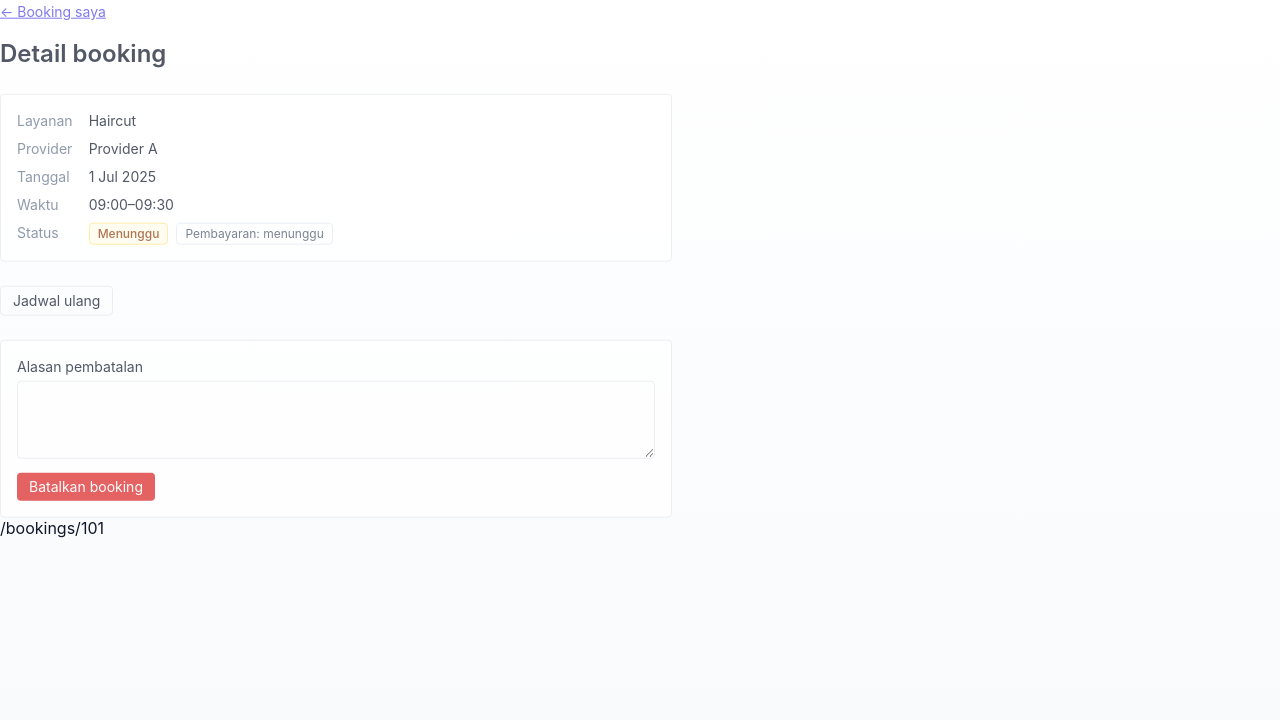
Scenario: BookingDetailPage › reschedules to a picked slot and shows success
Step 1. Click the button "Jadwal ulang" → (57, 301), box [0,286,114,316]
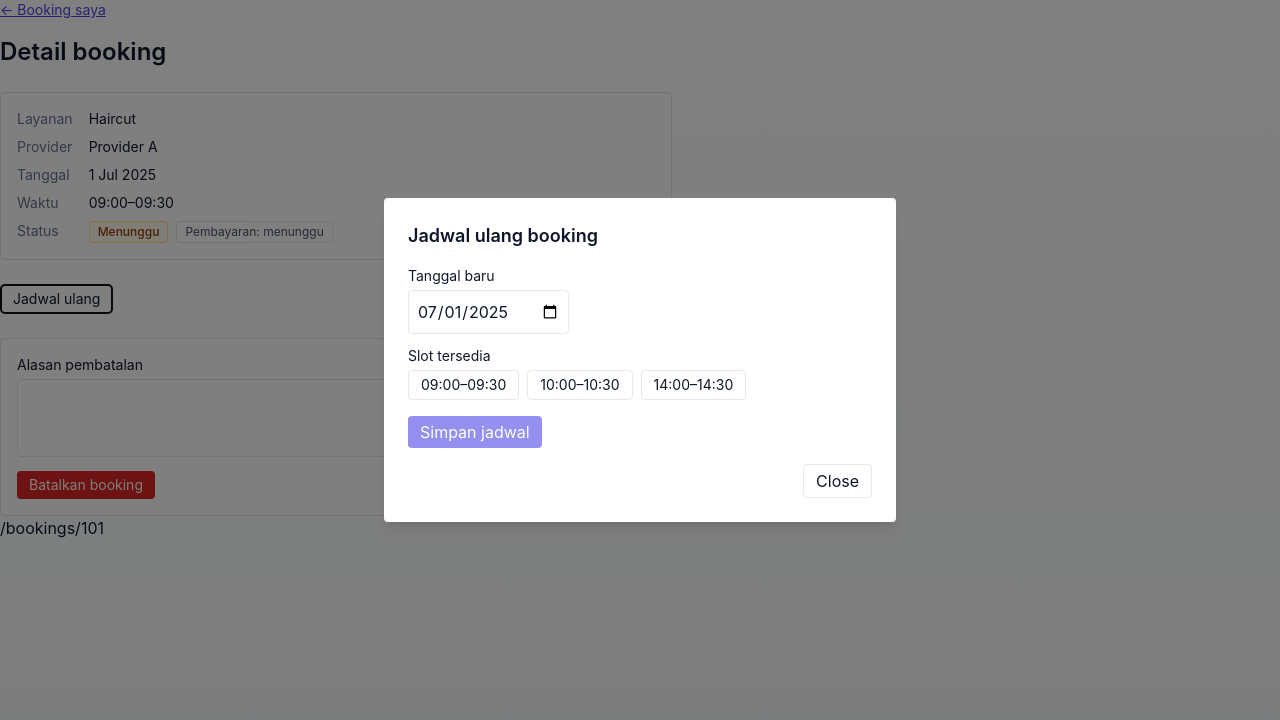
expect the dialog "Jadwal ulang booking" is shown: met, box [384,198,896,522]
Step 2. Clear the date field labelled "Tanggal baru" → (488, 312), box [408,290,569,334]
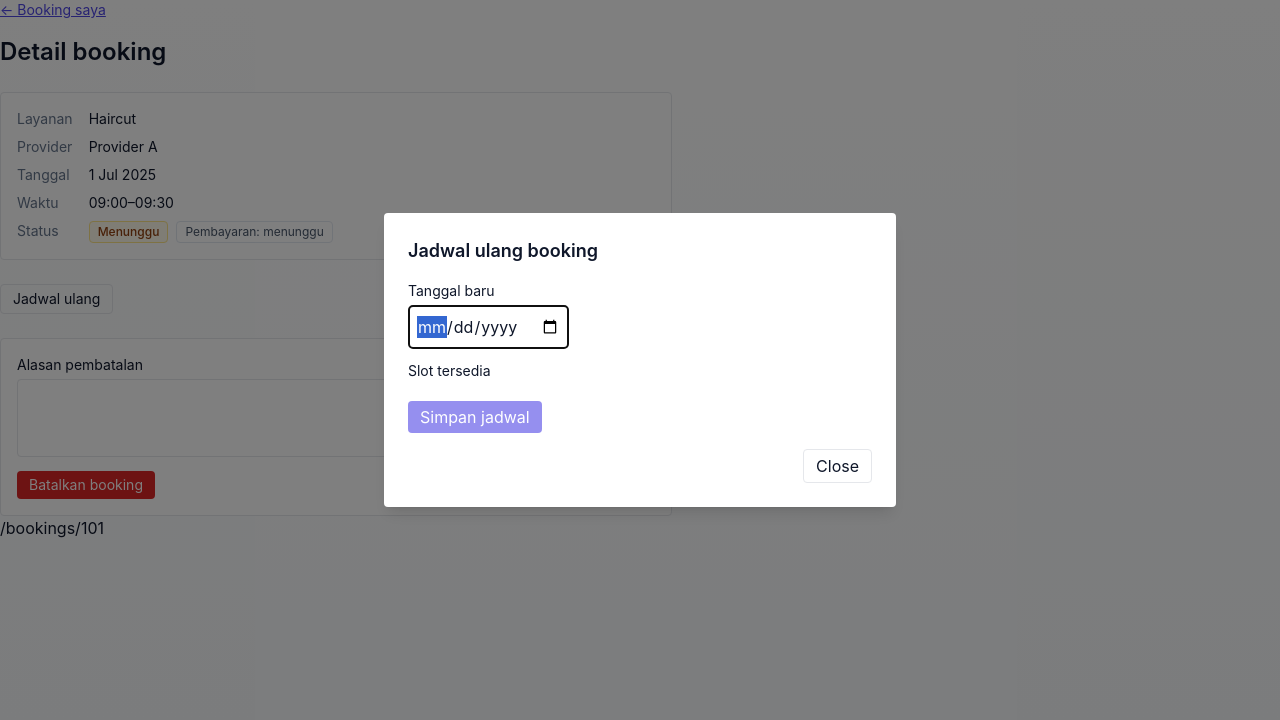
Step 3. Type "2025-07-10" into the date field labelled "Tanggal baru" → (488, 327), box [408,305,569,349]
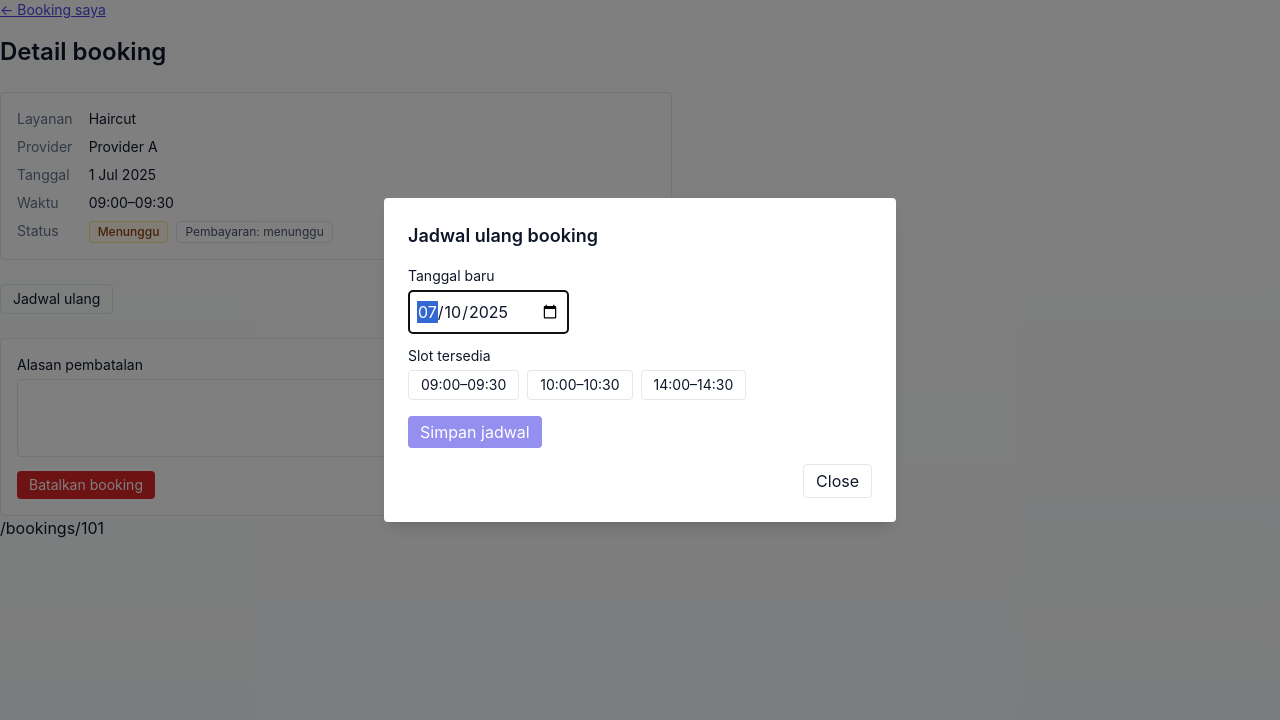
Step 4. Click the button "10:00–10:30" → (580, 385), box [527,370,633,400]
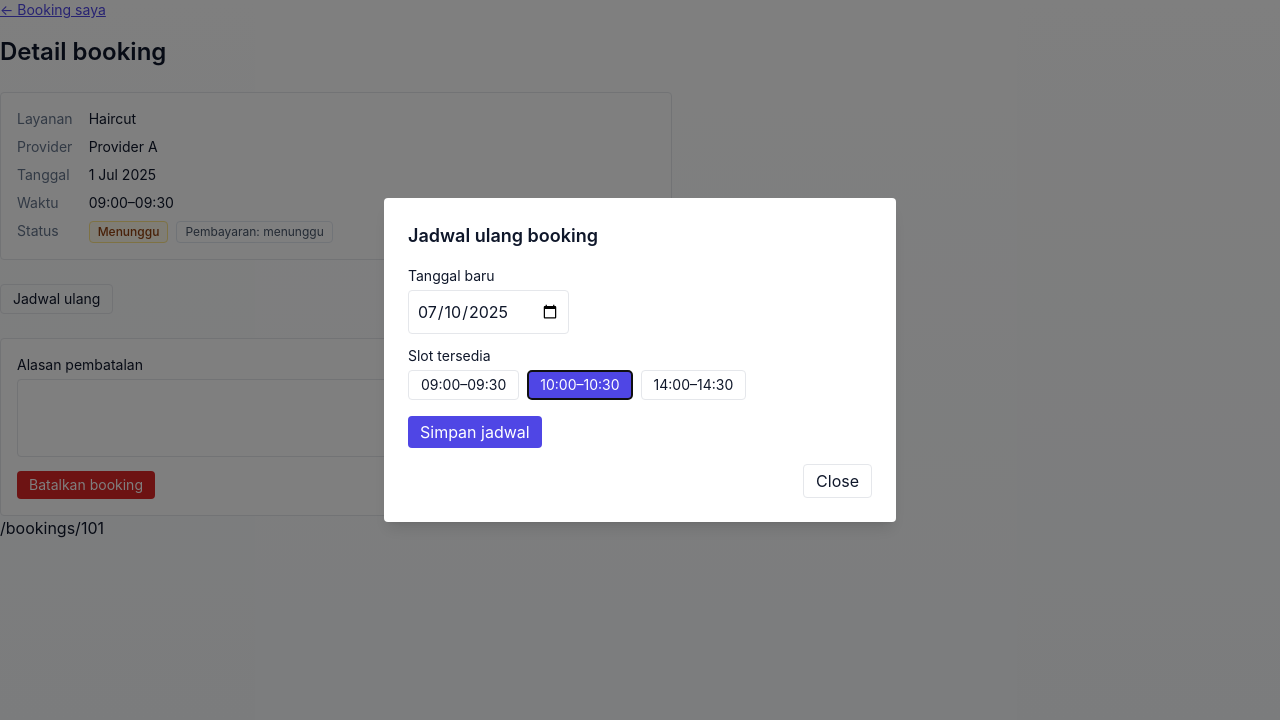
Step 5. Click the button "Simpan jadwal" → (475, 432), box [408,416,542,448]
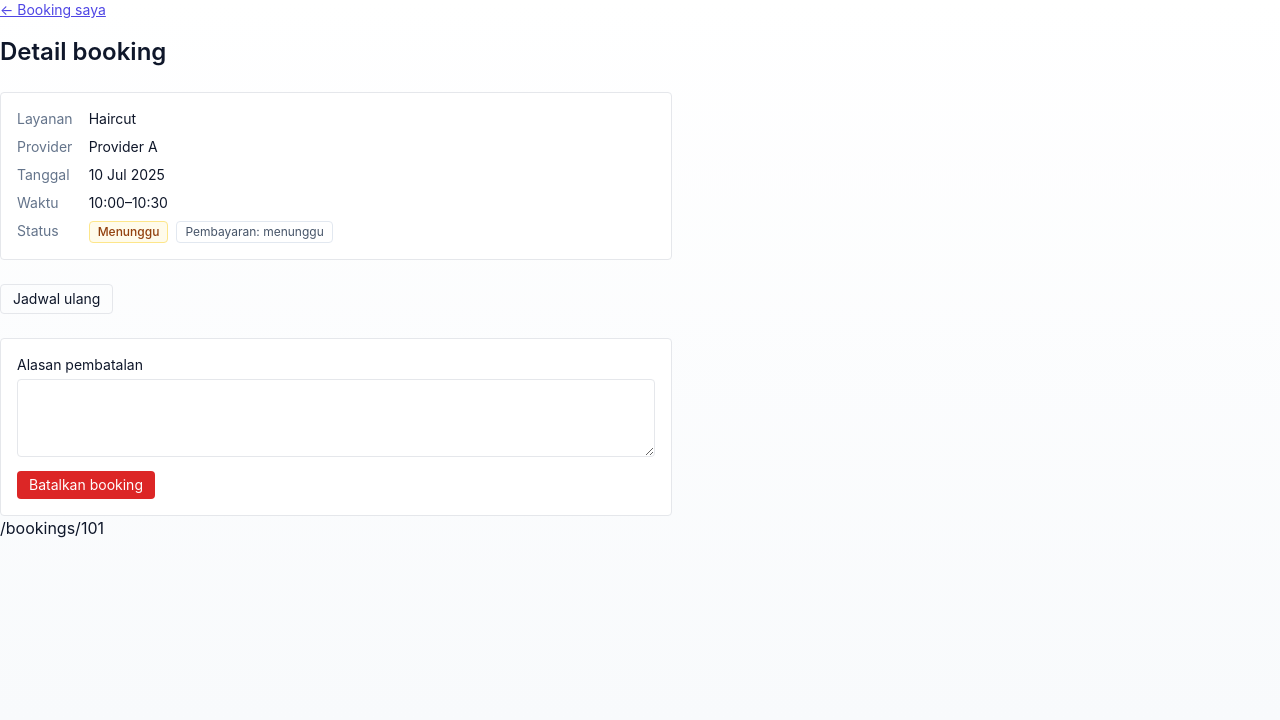
expect the dialog is gone: met
expect the text "10:00–10:30" is shown: met, box [89,194,168,211]
